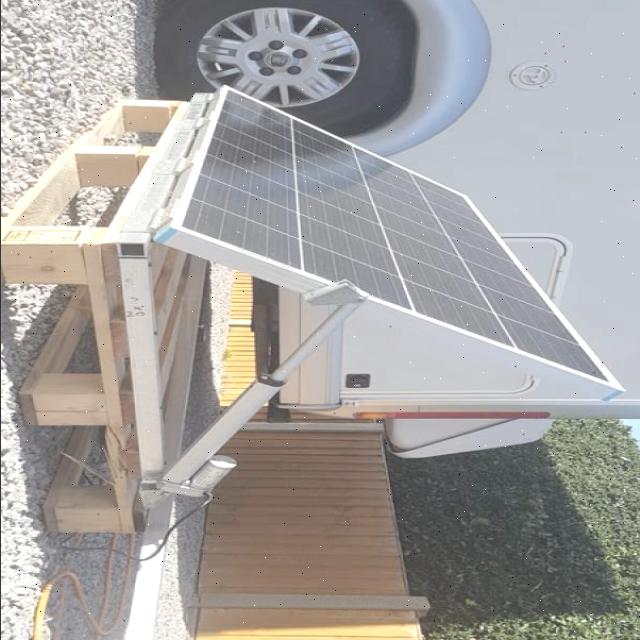Normal Solar Panel: (173, 84, 620, 387)
